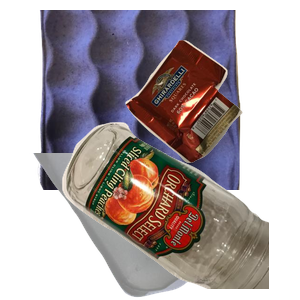glass: (60, 120, 300, 300)
paper: (35, 10, 268, 190)
plastic: (29, 153, 245, 300)
trash: (123, 37, 300, 192)
